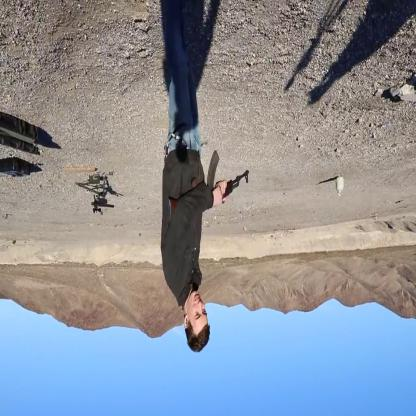long weapon: (165, 154, 254, 224), (87, 182, 120, 224)
